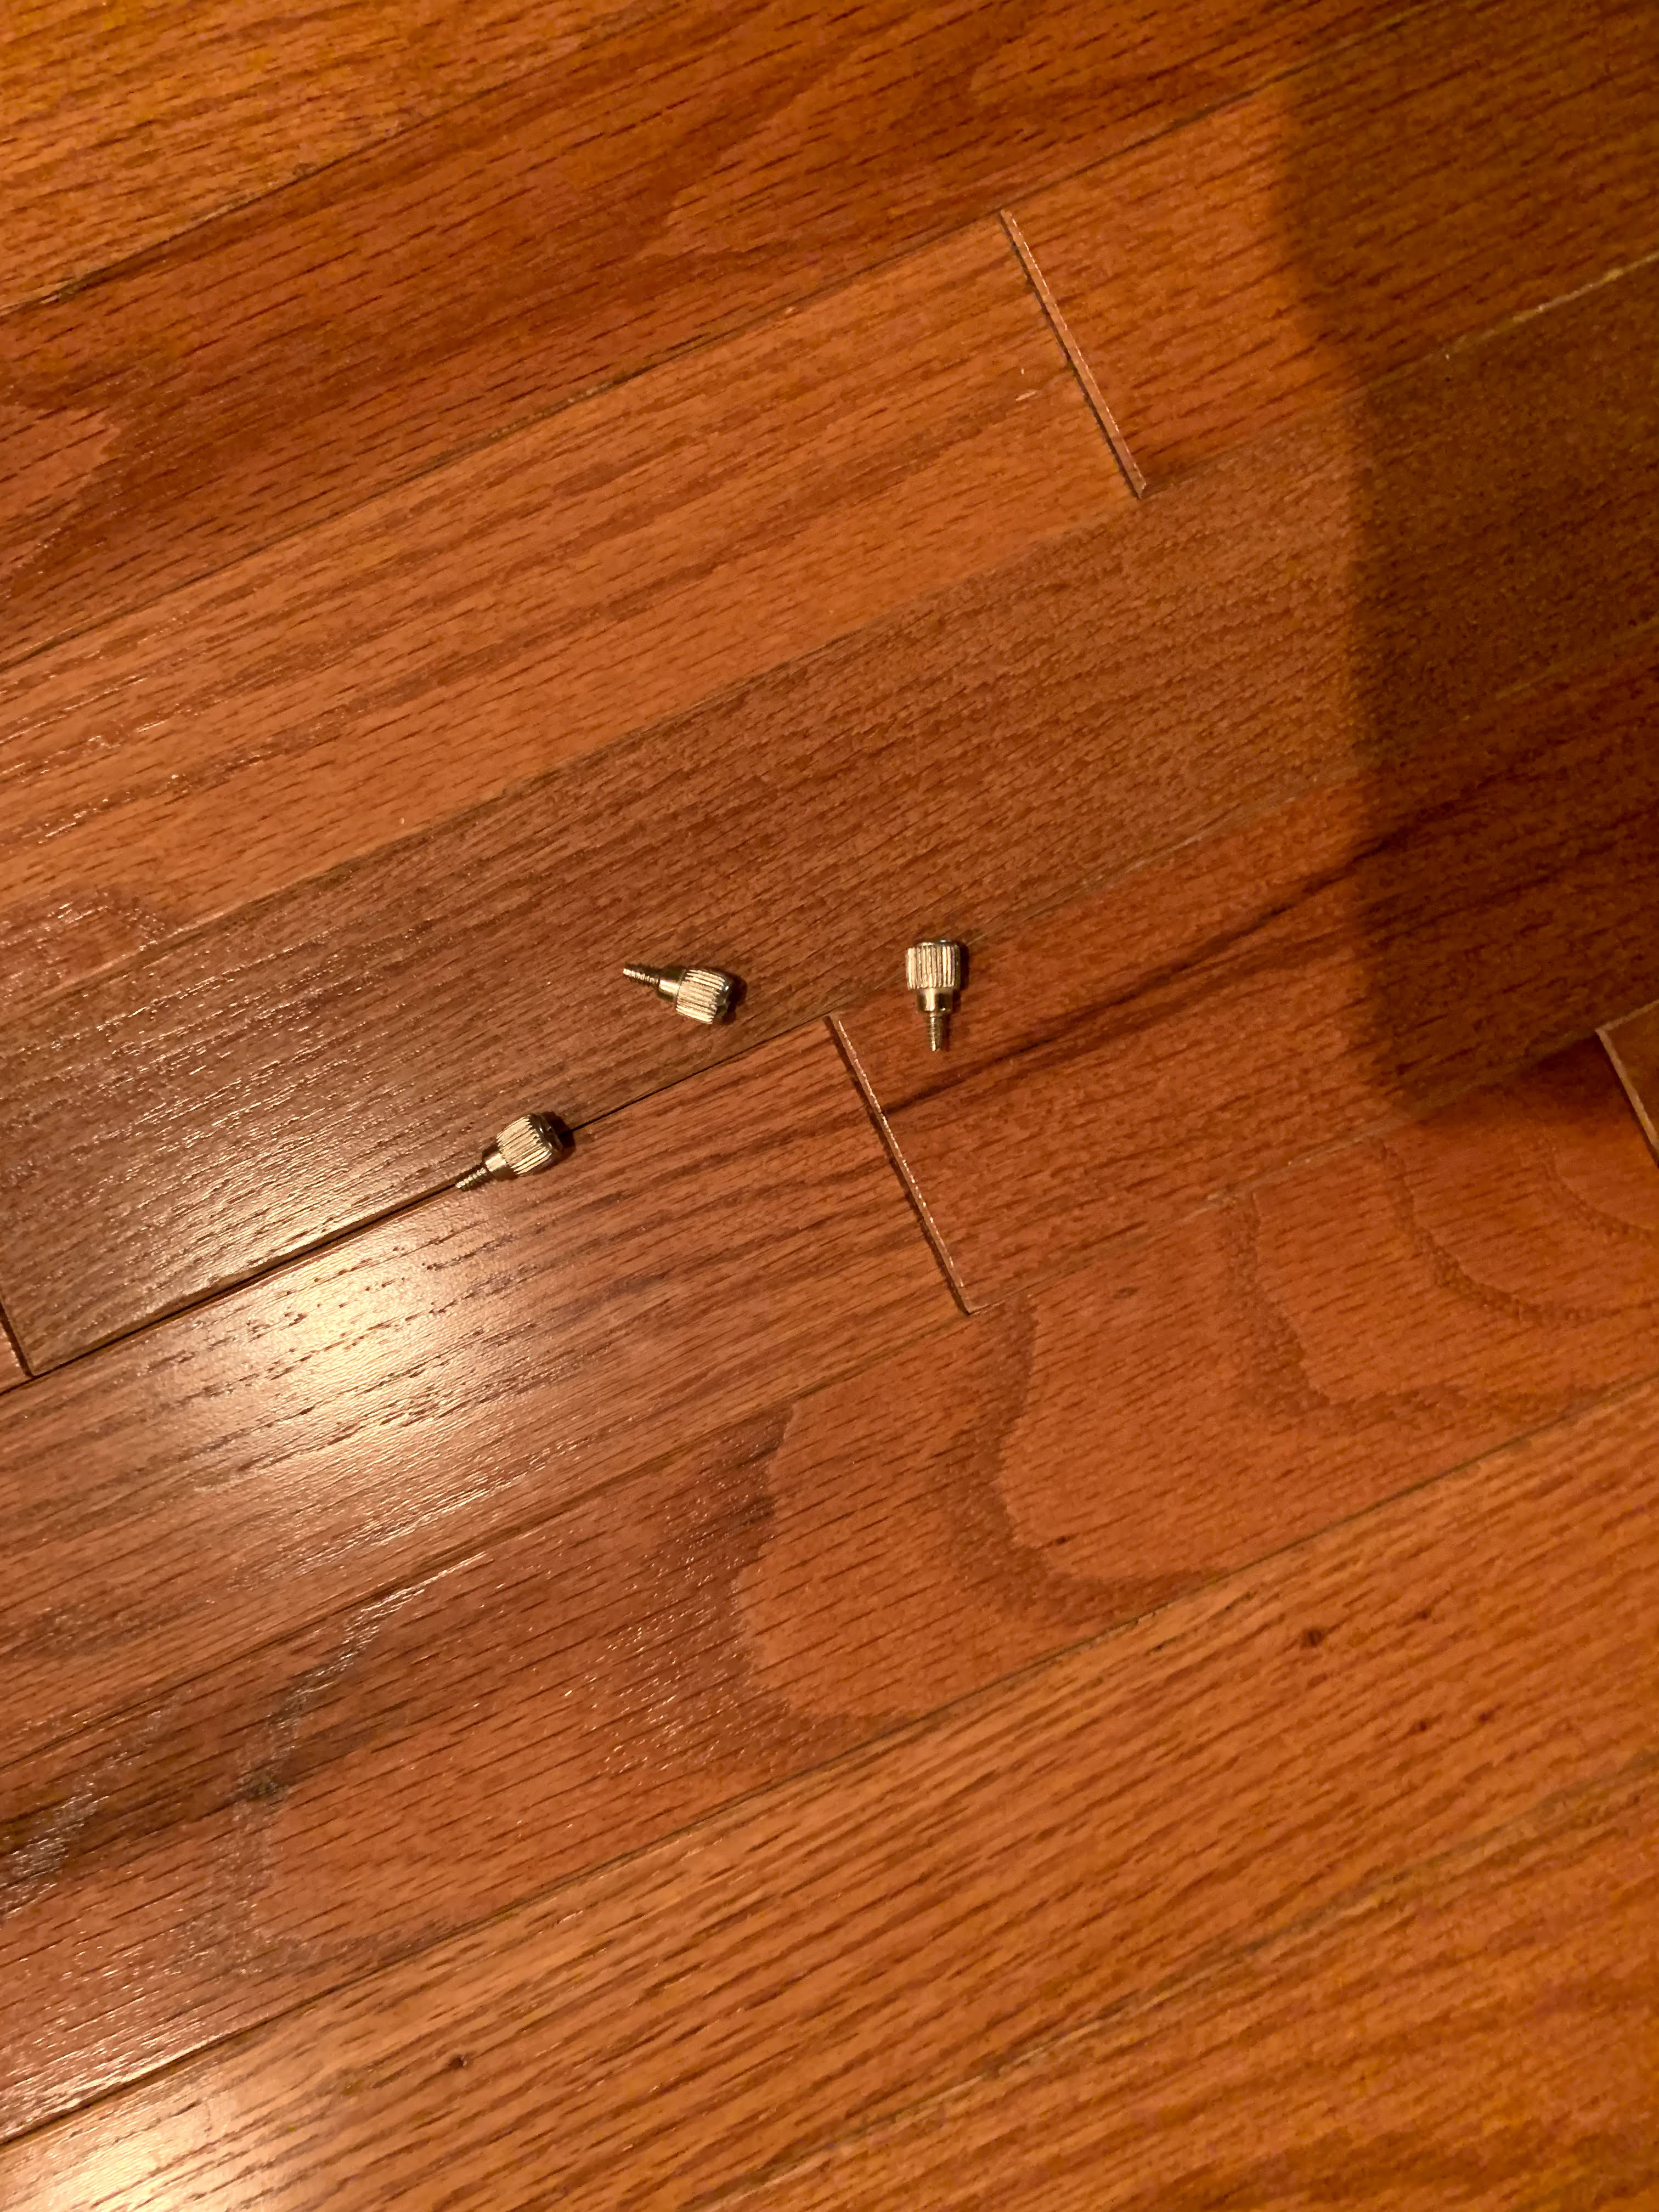Space-debris-small: (871, 918, 1002, 1068), (429, 1089, 592, 1204), (608, 925, 751, 1042)
